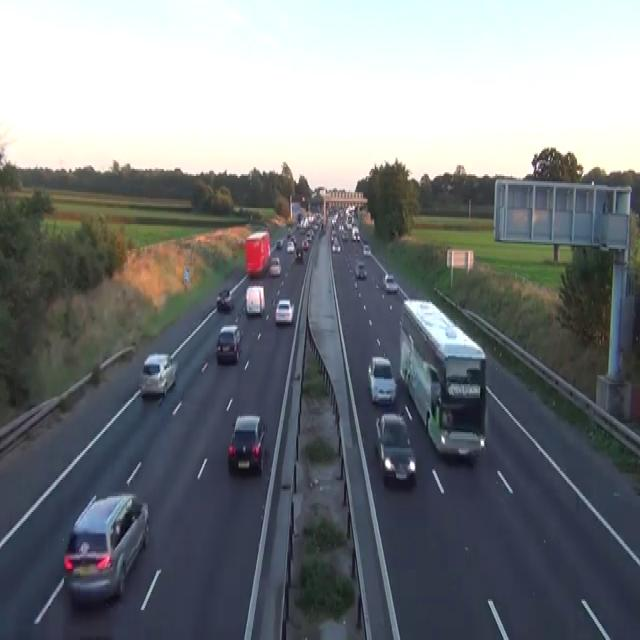Car: (63, 492, 149, 606), (375, 411, 416, 485), (227, 414, 265, 475), (139, 352, 178, 396), (330, 203, 360, 254), (367, 356, 397, 406), (216, 324, 241, 364), (245, 284, 264, 314), (274, 298, 294, 324), (216, 288, 233, 311), (383, 272, 398, 292), (269, 256, 281, 276), (354, 260, 366, 279), (331, 236, 341, 252), (294, 246, 303, 260), (351, 228, 360, 242), (305, 228, 314, 240), (286, 240, 294, 252), (301, 238, 309, 249), (346, 204, 355, 213), (287, 231, 296, 240), (276, 238, 283, 249), (341, 229, 348, 240), (363, 244, 370, 254), (289, 234, 296, 243), (331, 233, 337, 243), (355, 233, 360, 242), (287, 230, 292, 238)
Truck: (398, 297, 486, 459), (244, 230, 270, 276)
